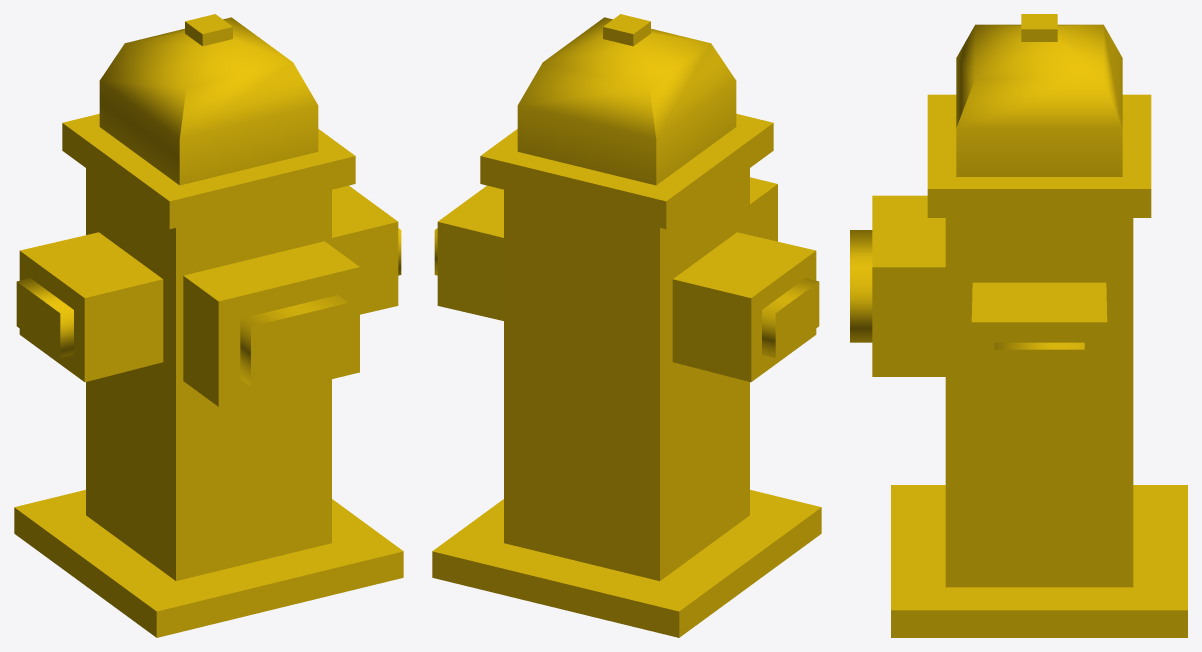
The model's file is FireHydrant.glb.
3 views of the same model, side by side, from view 1: azimuth 30°, elevation 25°; view 2: azimuth 150°, elevation 25°; view 3: azimuth 270°, elevation 25° (orthographic). The views are drawn at different scales.
Parts seen in each view (by area): view 1: FireHydrant; view 2: FireHydrant; view 3: FireHydrant.
Part boxes in pixels (<box>): FireHydrant: <box>14,14,403,637</box>; FireHydrant: <box>432,14,821,637</box>; FireHydrant: <box>850,14,1187,637</box>.
Size of what is drawn, in the model's own units: 0.4815 by 0.7171 by 0.3967.
